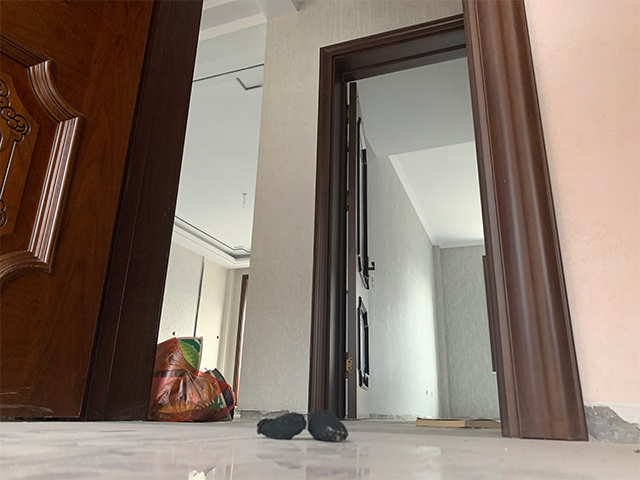book: (415, 416, 501, 430)
feces: (256, 409, 307, 440), (306, 408, 349, 442)
